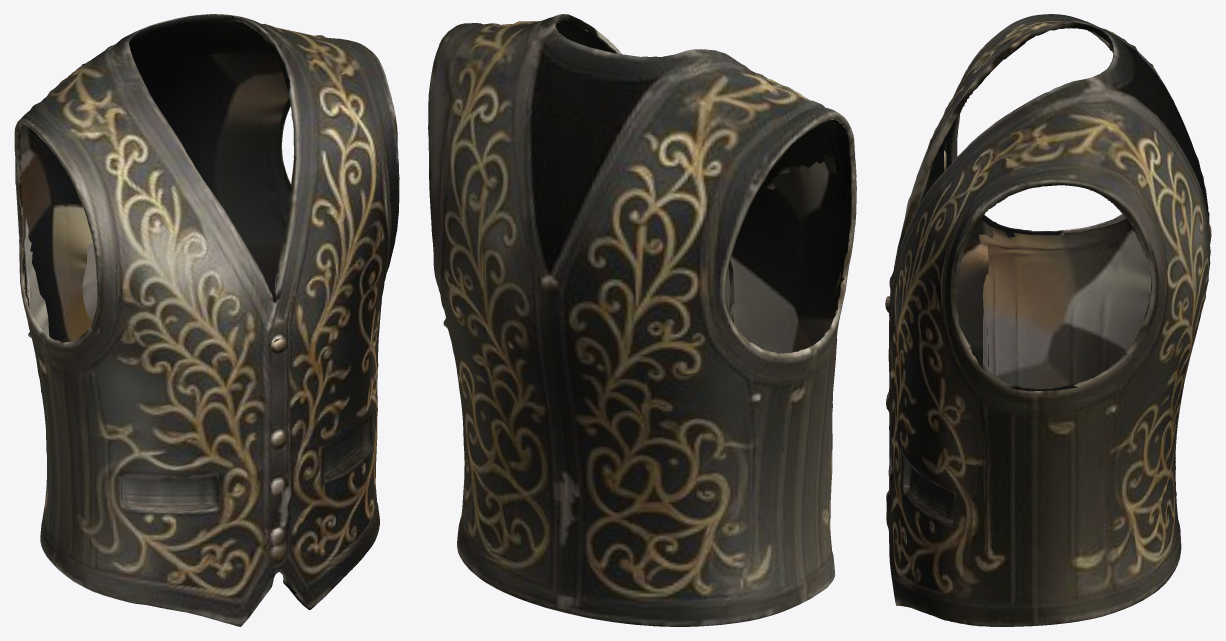
File: yelek.glb
The picture shows the model from 3 angles, left to right: view 1: azimuth 30°, elevation 25°; view 2: azimuth 150°, elevation 25°; view 3: azimuth 270°, elevation 25°; orthographic projection. The views are drawn at different scales.
Parts seen in each view (by area): view 1: Vest; view 2: Vest; view 3: Vest.
Part boxes in pixels (x1=…): Vest: x1=14, y1=14, x2=399, y2=626; Vest: x1=428, y1=14, x2=856, y2=626; Vest: x1=885, y1=14, x2=1211, y2=626.
Bounding box in the file's own units: 0.4353 × 0.65 × 0.3577.
1 material, 1 textured.
